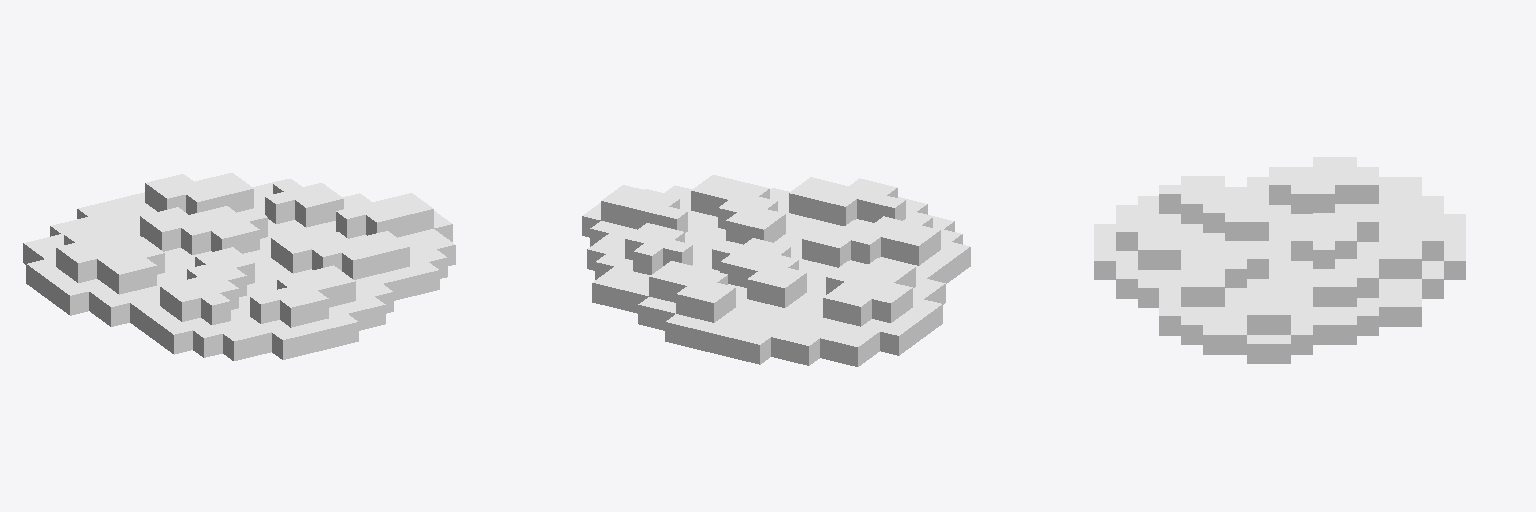
Rendered from Moss2.obj.
3 renders of one model, left to right at view 1: azimuth 30°, elevation 25°; view 2: azimuth 150°, elevation 25°; view 3: azimuth 270°, elevation 25°, orthographic.
Parts seen in each view (by area): view 1: Moss2; view 2: Moss2; view 3: Moss2.
Part boxes in pixels (x1,y1,x2,y2): Moss2: (23,173,455,360); Moss2: (582,175,970,366); Moss2: (1094,157,1465,363).
Size of the model in its own units: 1.9 by 0.2 by 1.7.